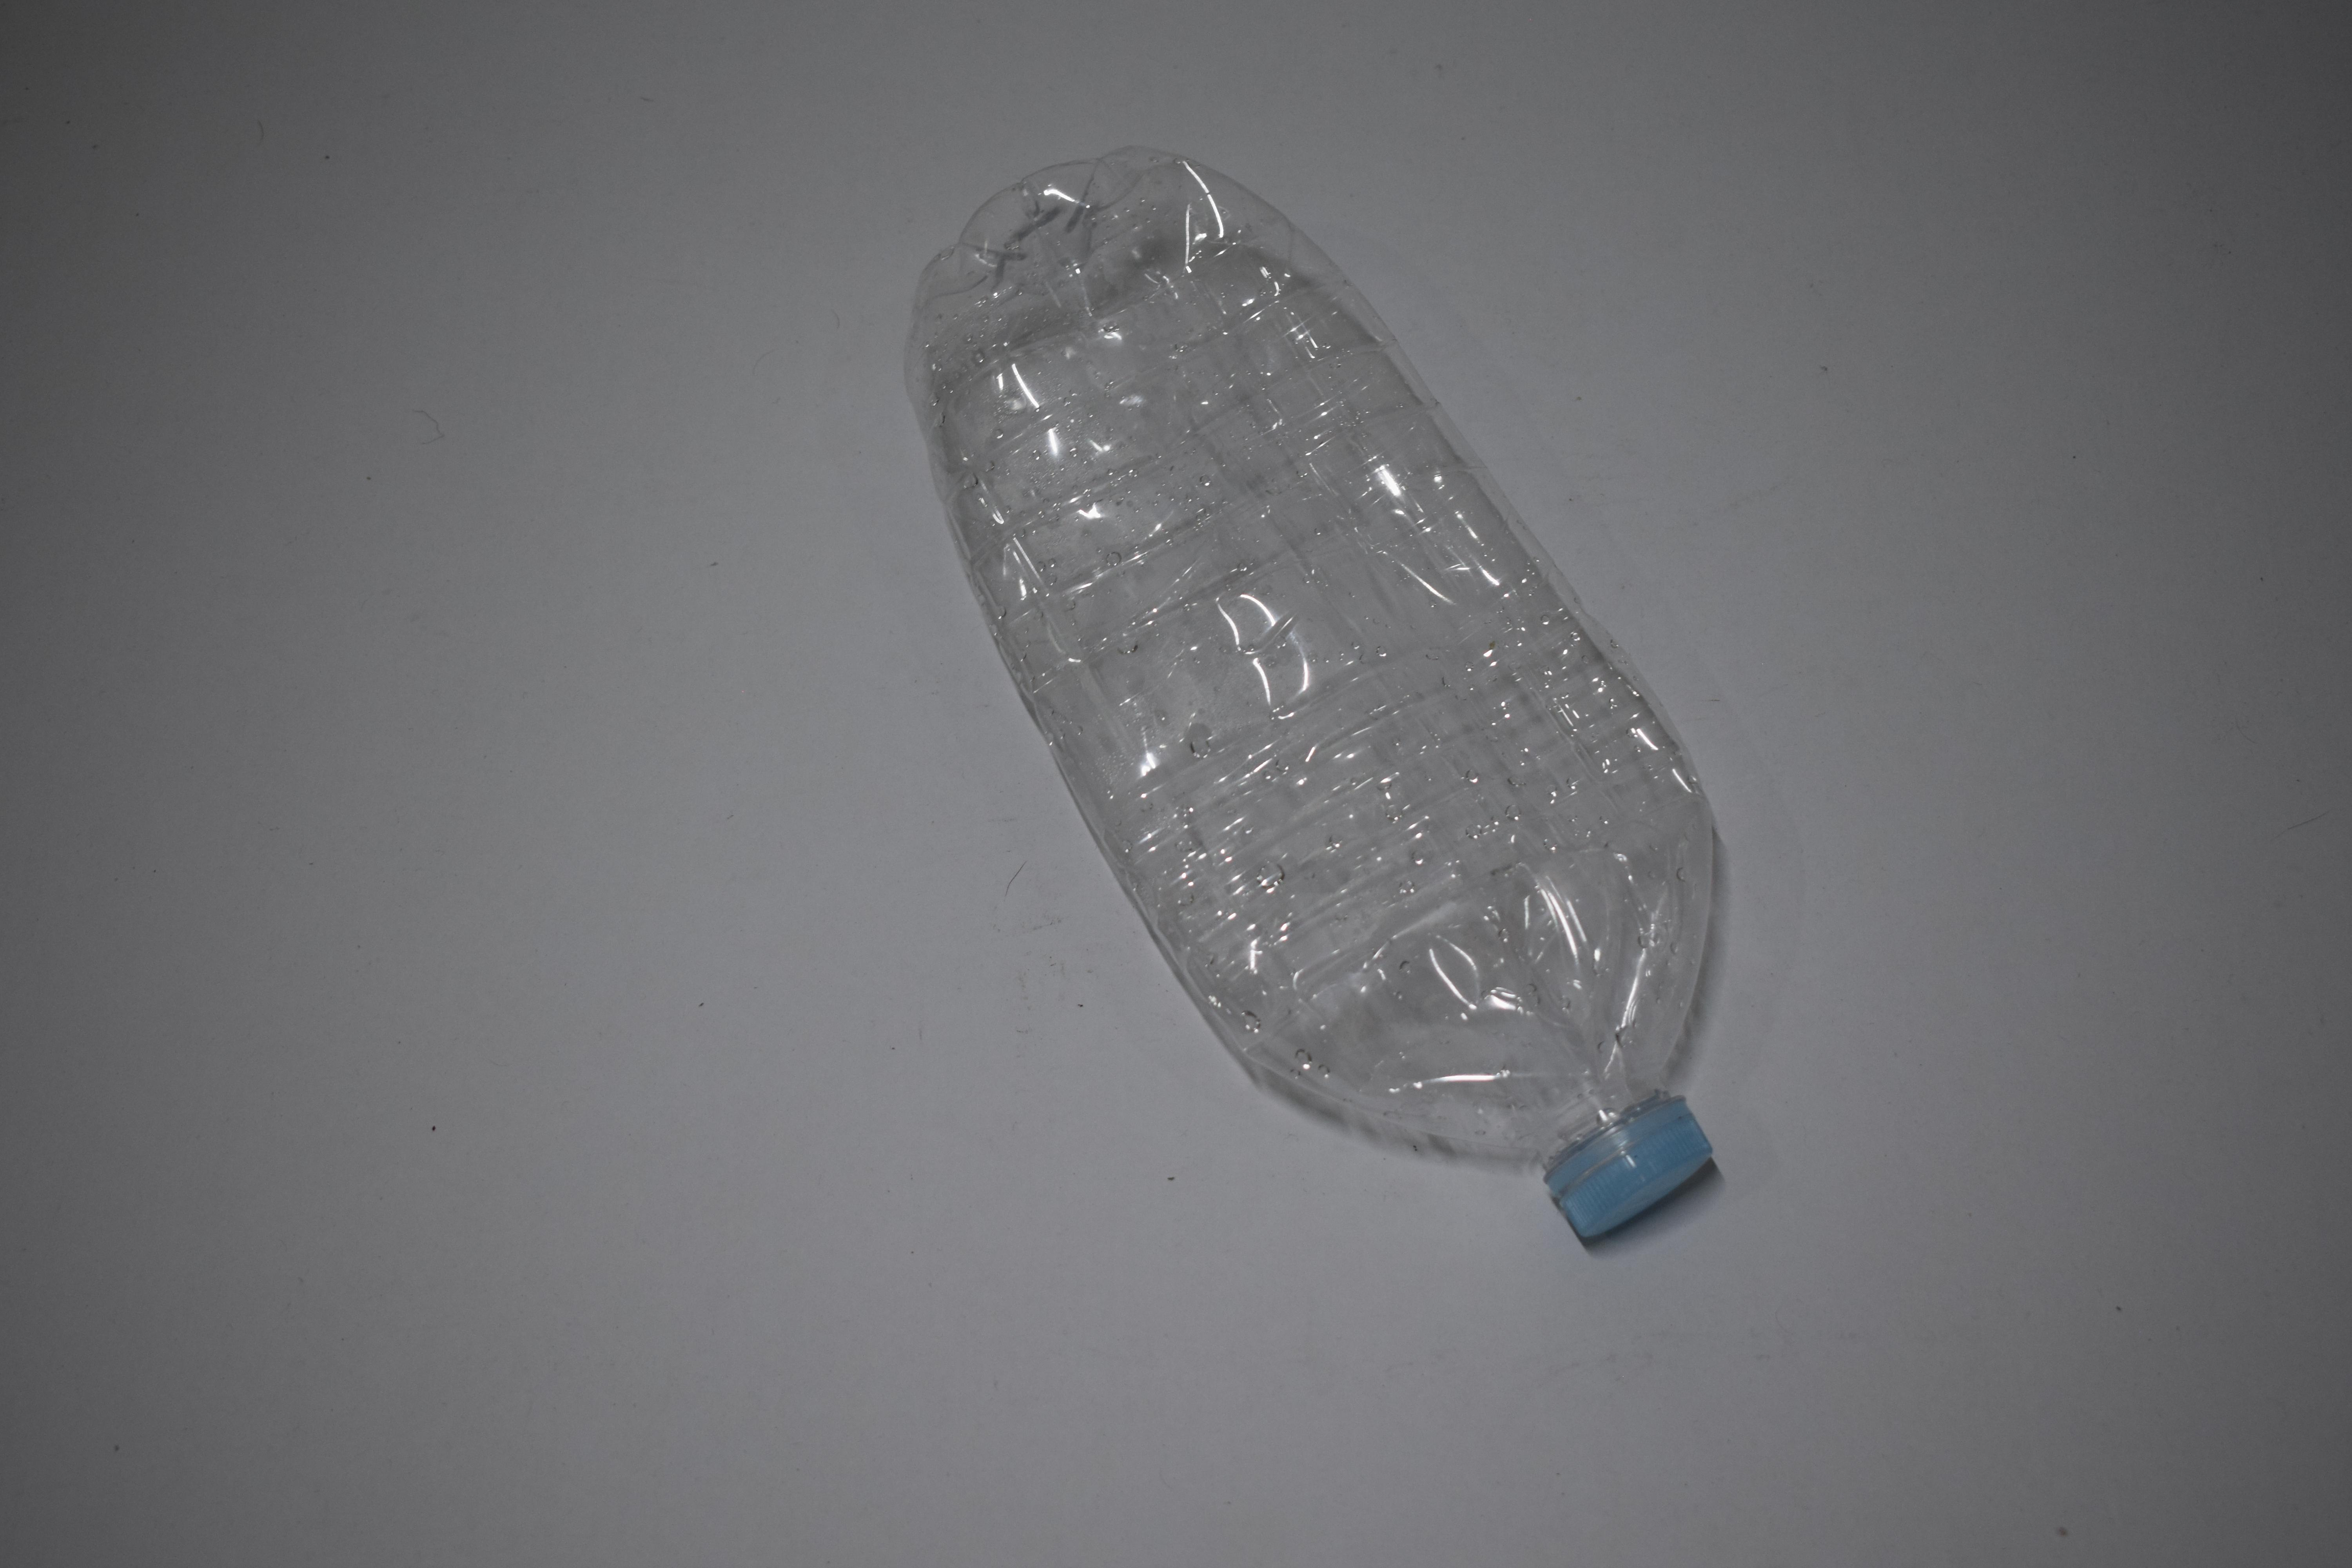bottle: (0, 126, 373, 1255)
